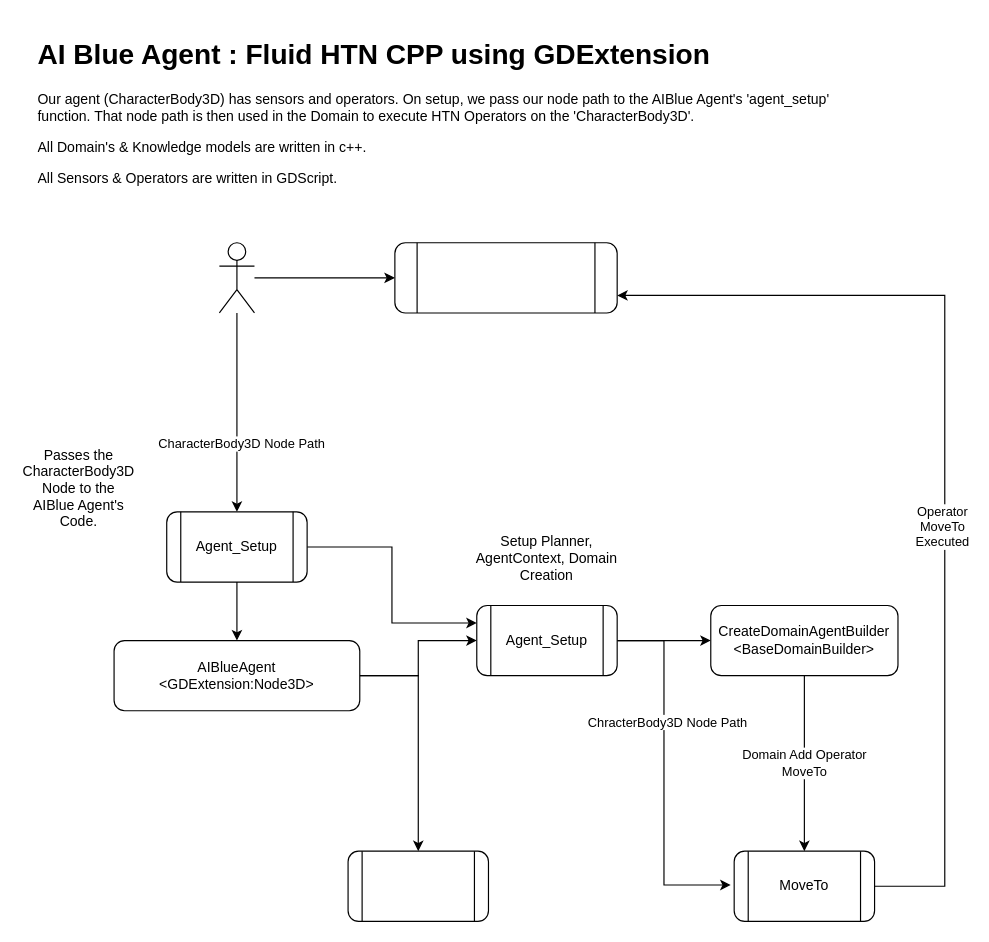
Some shapes in this 989 by 942 pixel diagram are drawn without their labels. The centre of each missing label's shape, as x and y in pixels:
"CharacterBody3D" goes at pixel 236 277.
"MoveTo <CharacterBody3D Script>" goes at pixel 505 277.
"Planner Ticks" goes at pixel 417 885.
